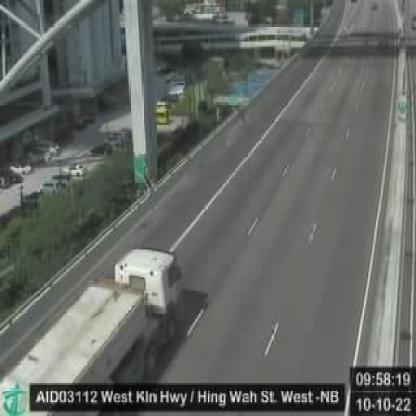Truck: (3, 251, 180, 410)
